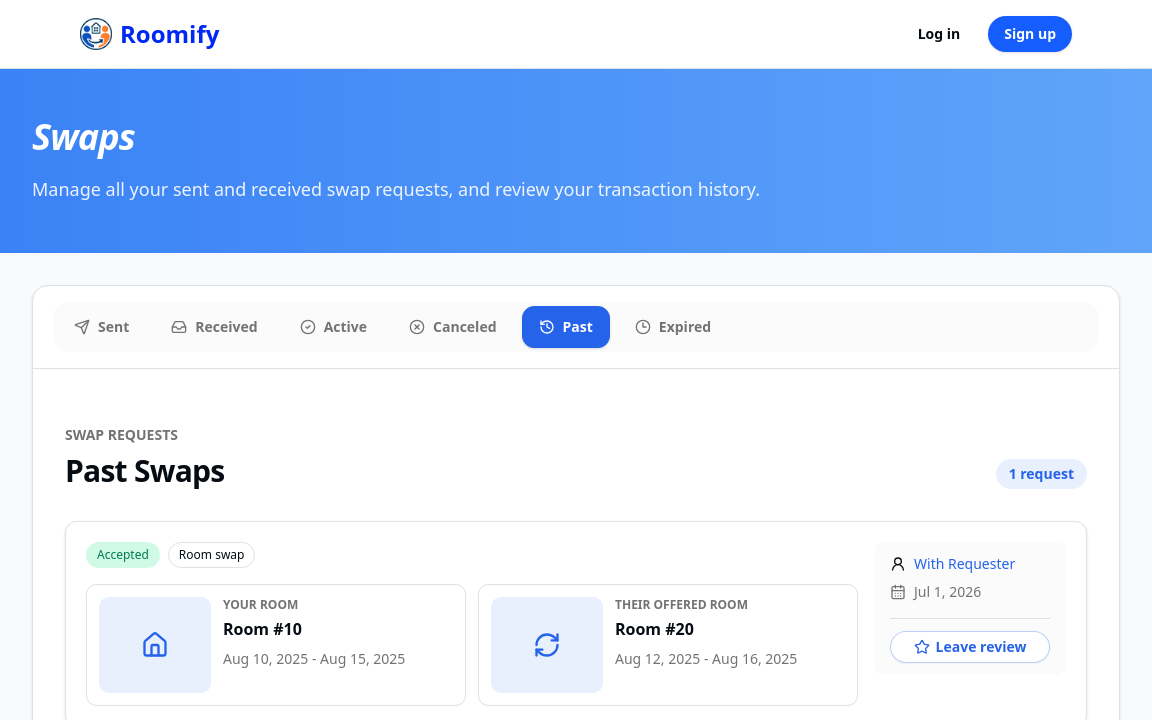
it: SwapsPage review flow › reviews the offered room when the current user owns the requested room
Click the button "Leave review" at (970, 647), box [890,631,1050,663]
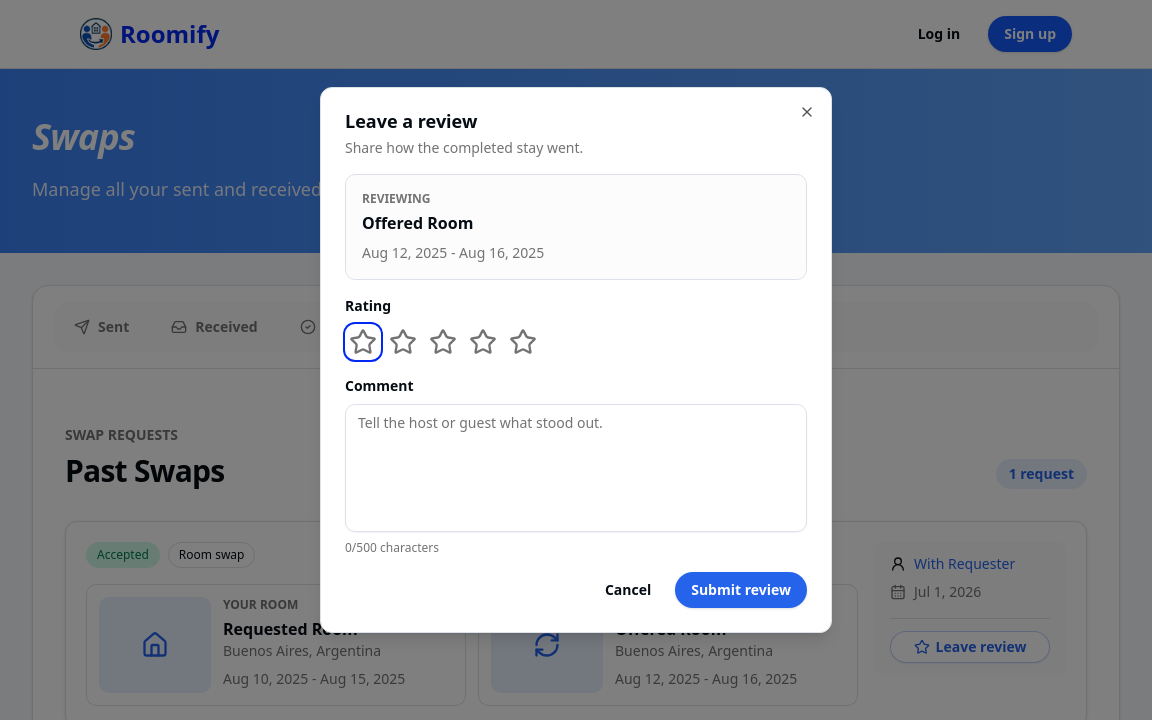
Expected: the heading "Offered Room" is shown, [362,212,473,234]
